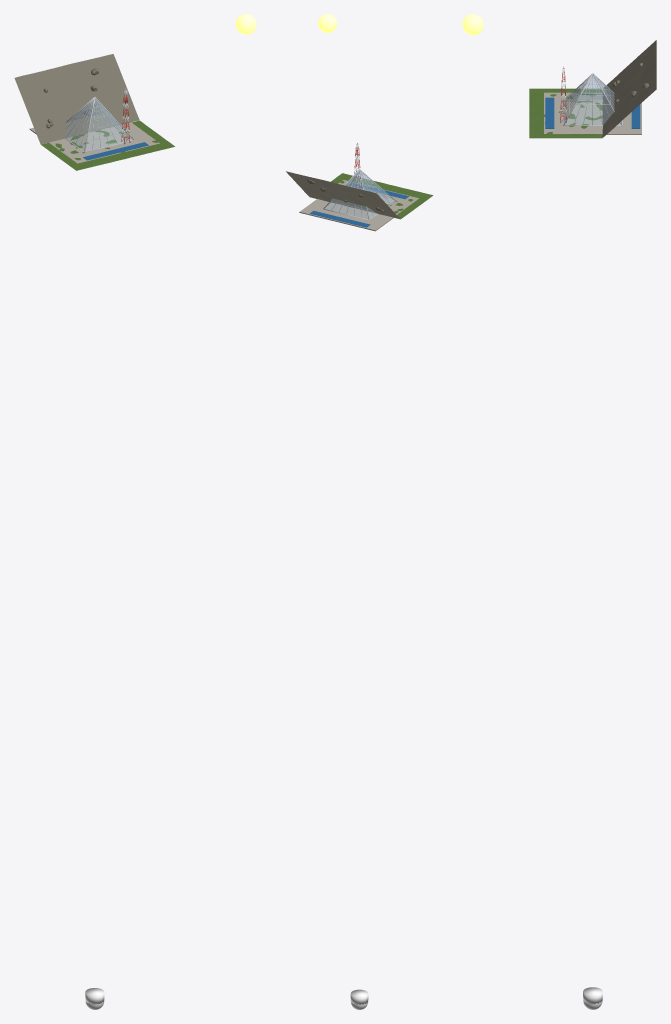
Rendered from math.glb.
3 renders of one model, left to right at view 1: azimuth 30°, elevation 25°; view 2: azimuth 150°, elevation 25°; view 3: azimuth 270°, elevation 25°, orthographic. The views are drawn at different scales.
Parts seen in each view (by area): view 1: Schatten_Hang, Pyramide_Glas, Pyramide_Platz, Schatten_Boden; view 2: Schatten_Hang, Pyramide_Platz, Pyramide_Glas, Schatten_Boden; view 3: Schatten_Hang, Pyramide_Platz, Pyramide_Glas, Schatten_Boden.
Part boxes in pixels (x1,y1,x2,y2): Schatten_Hang: [14, 54, 139, 144]; Pyramide_Glas: [65, 100, 132, 151]; Pyramide_Platz: [29, 122, 159, 163]; Schatten_Boden: [41, 120, 174, 170]; Schatten_Hang: [286, 171, 400, 219]; Pyramide_Platz: [299, 180, 418, 231]; Pyramide_Glas: [325, 172, 394, 218]; Schatten_Boden: [309, 173, 433, 218]; Schatten_Hang: [602, 40, 656, 137]; Pyramide_Platz: [544, 92, 641, 134]; Pyramide_Glas: [564, 76, 621, 124]; Schatten_Boden: [529, 88, 602, 138].
Bounding box in the file's own units: 18.34 × 117 × 19.84.
